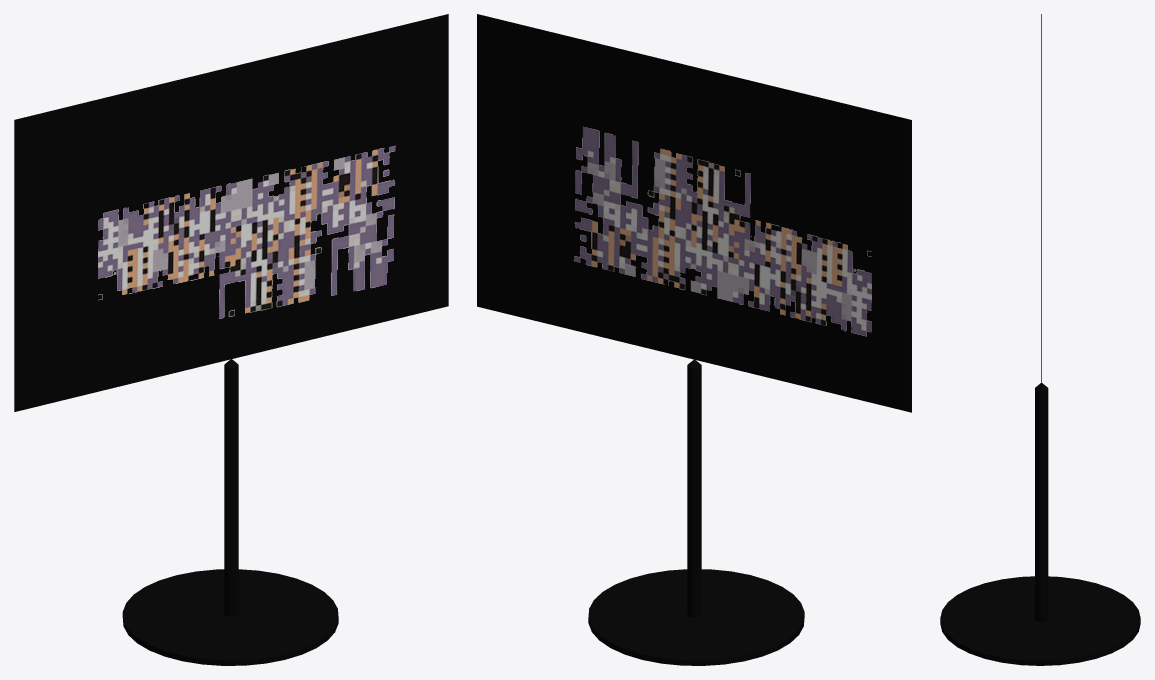
Rendered from 30MMMk3.obj.
3 views of the same model, side by side, from view 1: azimuth 30°, elevation 25°; view 2: azimuth 150°, elevation 25°; view 3: azimuth 270°, elevation 25° (orthographic). The views are drawn at different scales.
Parts seen in each view (by area): view 1: 30MMMK2_Fusion001.004; view 2: 30MMMK2_Fusion001.004; view 3: 30MMMK2_Fusion001.004.
Part boxes in pixels (x1,y1,x2,y2): 30MMMK2_Fusion001.004: (14,14,448,665); 30MMMK2_Fusion001.004: (477,14,911,665); 30MMMK2_Fusion001.004: (940,14,1140,665).
Size of the model in its own units: 2.75 by 3.34 by 1.19.
Materials: 2 (2 with a texture image).
